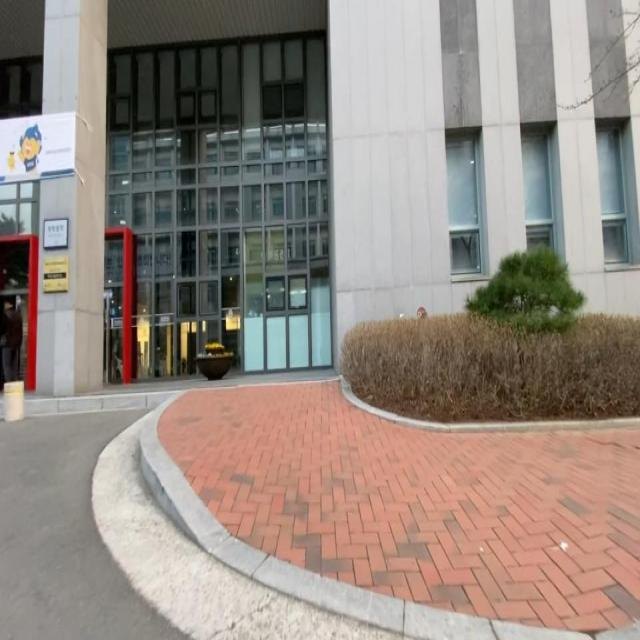sidewalk: (140, 381, 640, 640)
